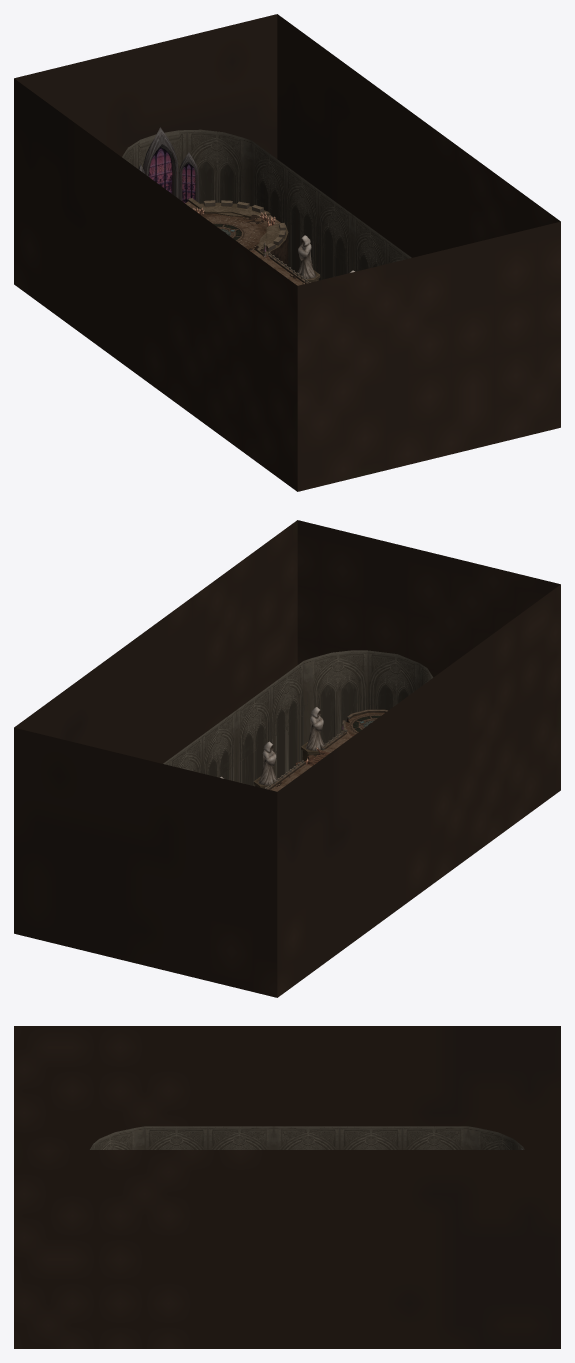
The model's file is Scene_heianzhimen3.fbx.
3 views of the same model, one above another, from view 1: azimuth 30°, elevation 25°; view 2: azimuth 150°, elevation 25°; view 3: azimuth 270°, elevation 25° (orthographic). The views are drawn at different scales.
Parts seen in each view (by area): view 1: Scene_dixiacheng_c1, Scene_dixiacheng_a1, Scene_dixiacheng_b1; view 2: Scene_dixiacheng_c1, Scene_dixiacheng_a1, Scene_dixiacheng_b1; view 3: Scene_dixiacheng_c1, Scene_dixiacheng_a1.
Part boxes in pixels (x1=…): Scene_dixiacheng_c1: x1=14, y1=14, x2=560, y2=491; Scene_dixiacheng_a1: x1=122, y1=129, x2=411, y2=283; Scene_dixiacheng_b1: x1=138, y1=127, x2=354, y2=282; Scene_dixiacheng_c1: x1=14, y1=520, x2=560, y2=997; Scene_dixiacheng_a1: x1=163, y1=650, x2=433, y2=789; Scene_dixiacheng_b1: x1=220, y1=707, x2=353, y2=788; Scene_dixiacheng_c1: x1=14, y1=1026, x2=560, y2=1348; Scene_dixiacheng_a1: x1=90, y1=1126, x2=524, y2=1149.
Bounding box in the file's own units: 4671 × 3537 × 8708.
